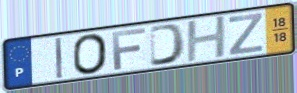D: (148, 22, 188, 68)
F: (110, 26, 148, 71)
H: (185, 14, 228, 65)
I: (54, 36, 65, 81)
O: (71, 32, 109, 76)
Z: (227, 11, 264, 57)
